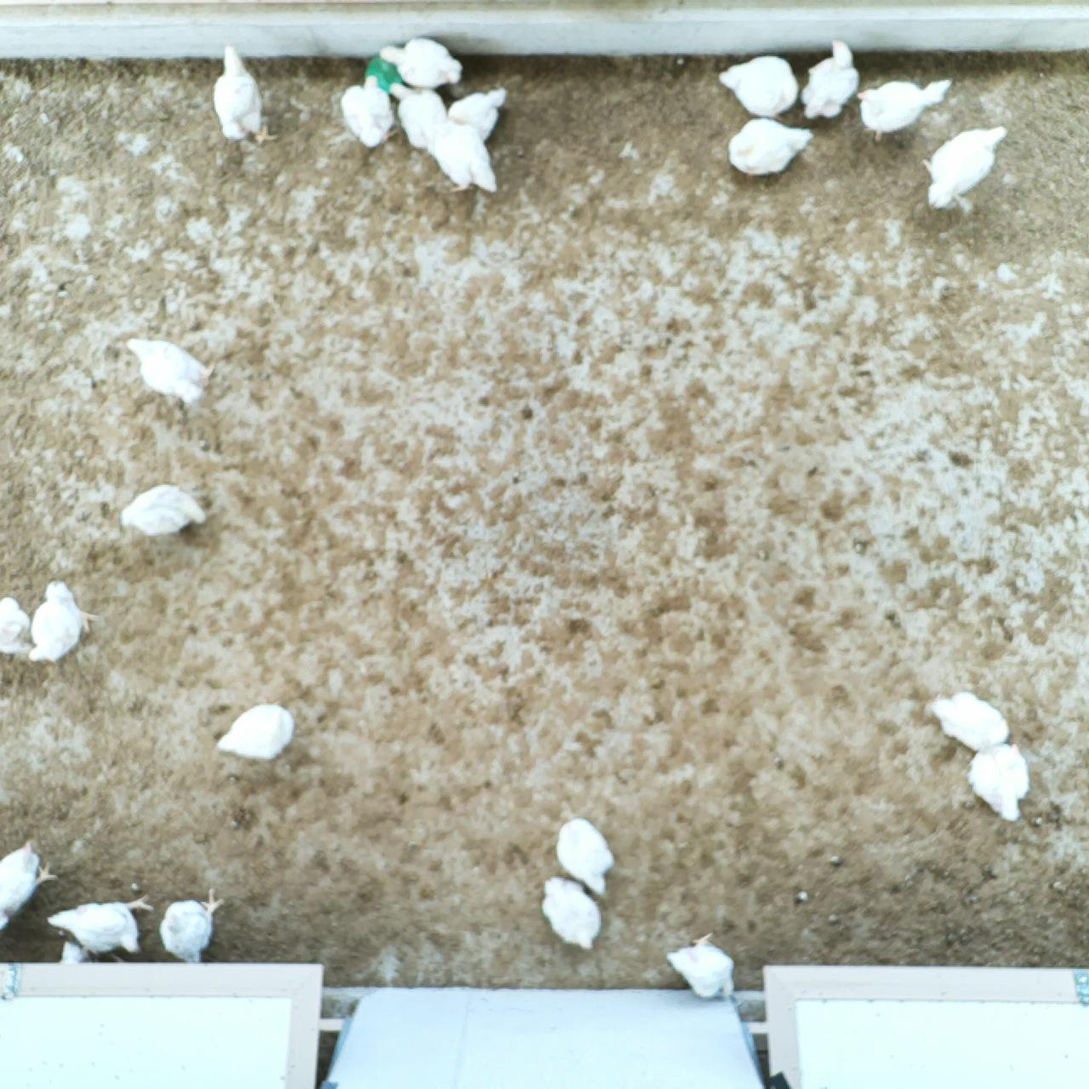chicken: (919, 124, 1011, 215), (210, 42, 282, 149), (120, 333, 218, 409), (45, 892, 155, 956), (857, 77, 954, 148), (25, 576, 99, 664), (423, 117, 499, 196), (965, 741, 1033, 825), (538, 873, 604, 956), (0, 839, 57, 934), (663, 930, 739, 1001), (157, 887, 227, 964), (727, 117, 815, 178), (214, 701, 296, 766), (552, 814, 616, 897), (718, 53, 799, 118), (929, 689, 1011, 753), (117, 481, 210, 537), (800, 39, 860, 122), (377, 36, 465, 90), (388, 79, 450, 152), (340, 71, 396, 151), (447, 85, 508, 143), (0, 594, 37, 656)
